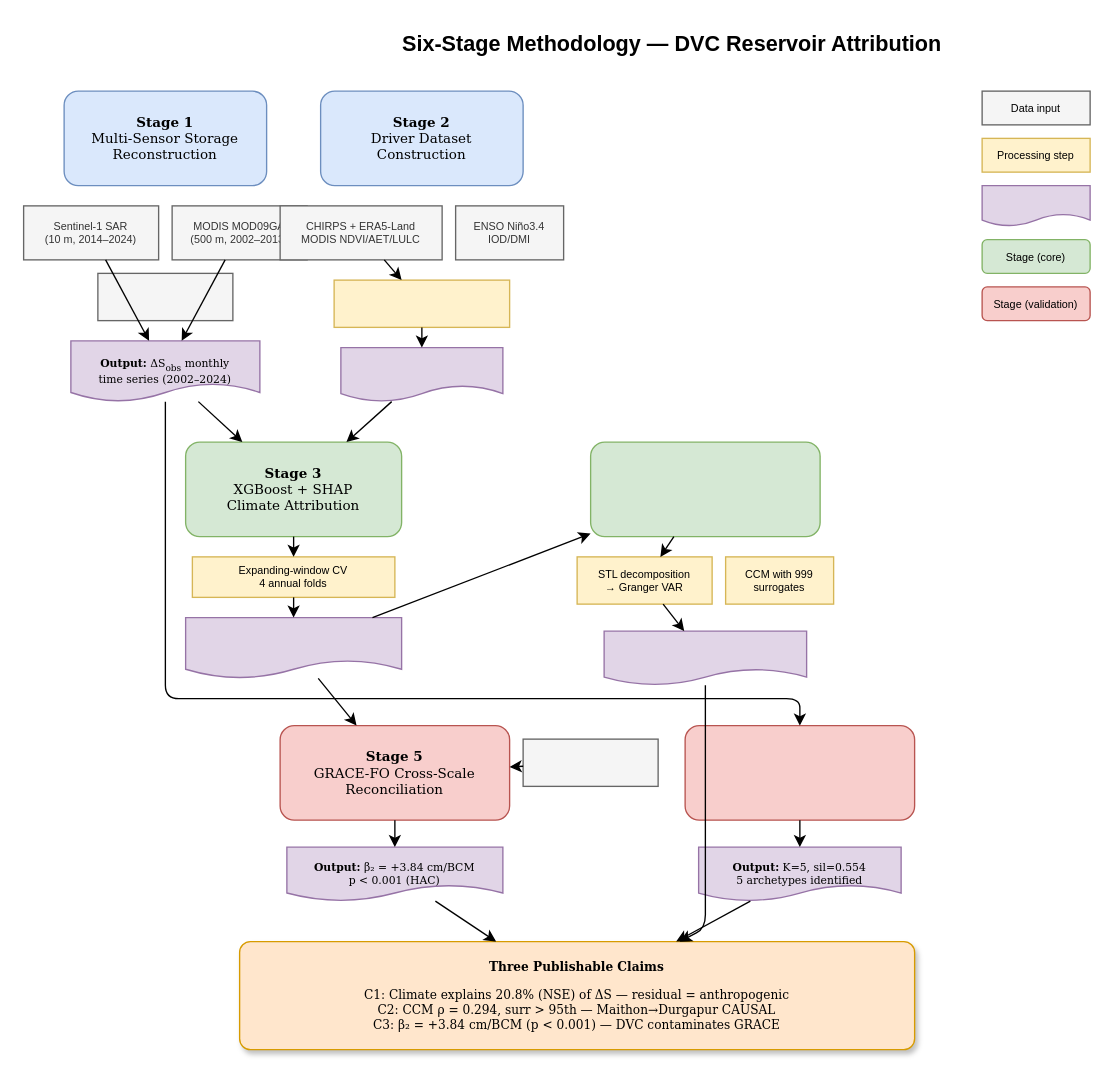
The diagram is 1114 pixels wide and 1083 high, and some of its shapes have lost their labels. The shapes that lost their labels are listed below. From the top down, each one's centre as x and y in pixels, then its label:
the point at 1035,205: Output file
the point at 165,296: CartoDEM / ALOS Hypsometry
the point at 421,303: API₆ + SCS-CN + VIF Feature Engineering
the point at 421,374: Output: X climate 264 × 8 features
the point at 704,489: Stage 4 Causal Inference (Granger + CCM + HMM)
the point at 293,647: Output: ΔS climate + ΔS anthro SHAP importance ranking
the point at 705,657: Output: Causal p-values HMM regime states
the point at 590,762: GRACE-FO RL06.3 TWS mascons
the point at 799,772: Stage 6 Operational Fingerprint Taxonomy (DTW)
